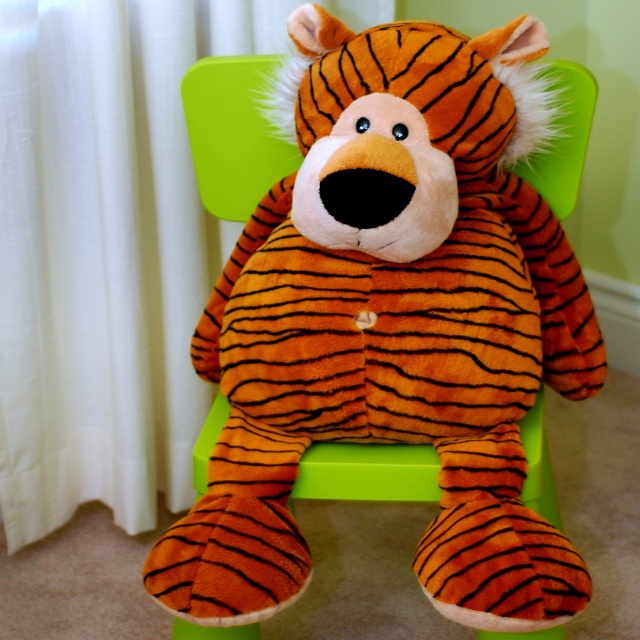Tiger: (142, 3, 608, 632)
